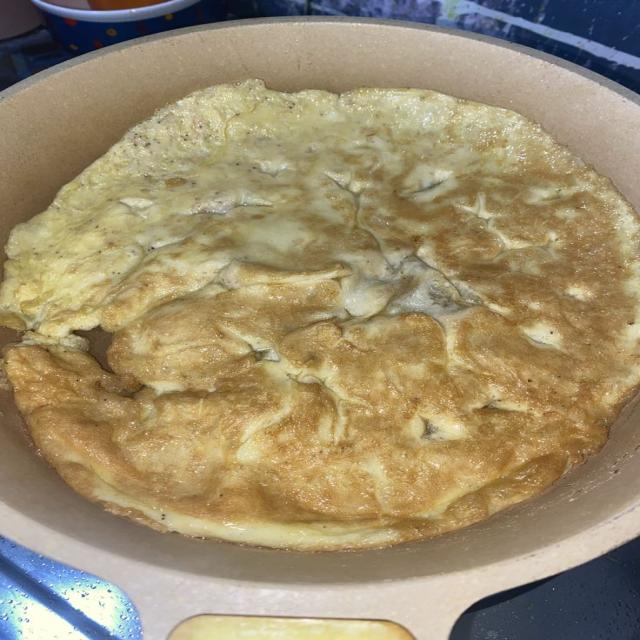omelette: (0, 81, 639, 549)
